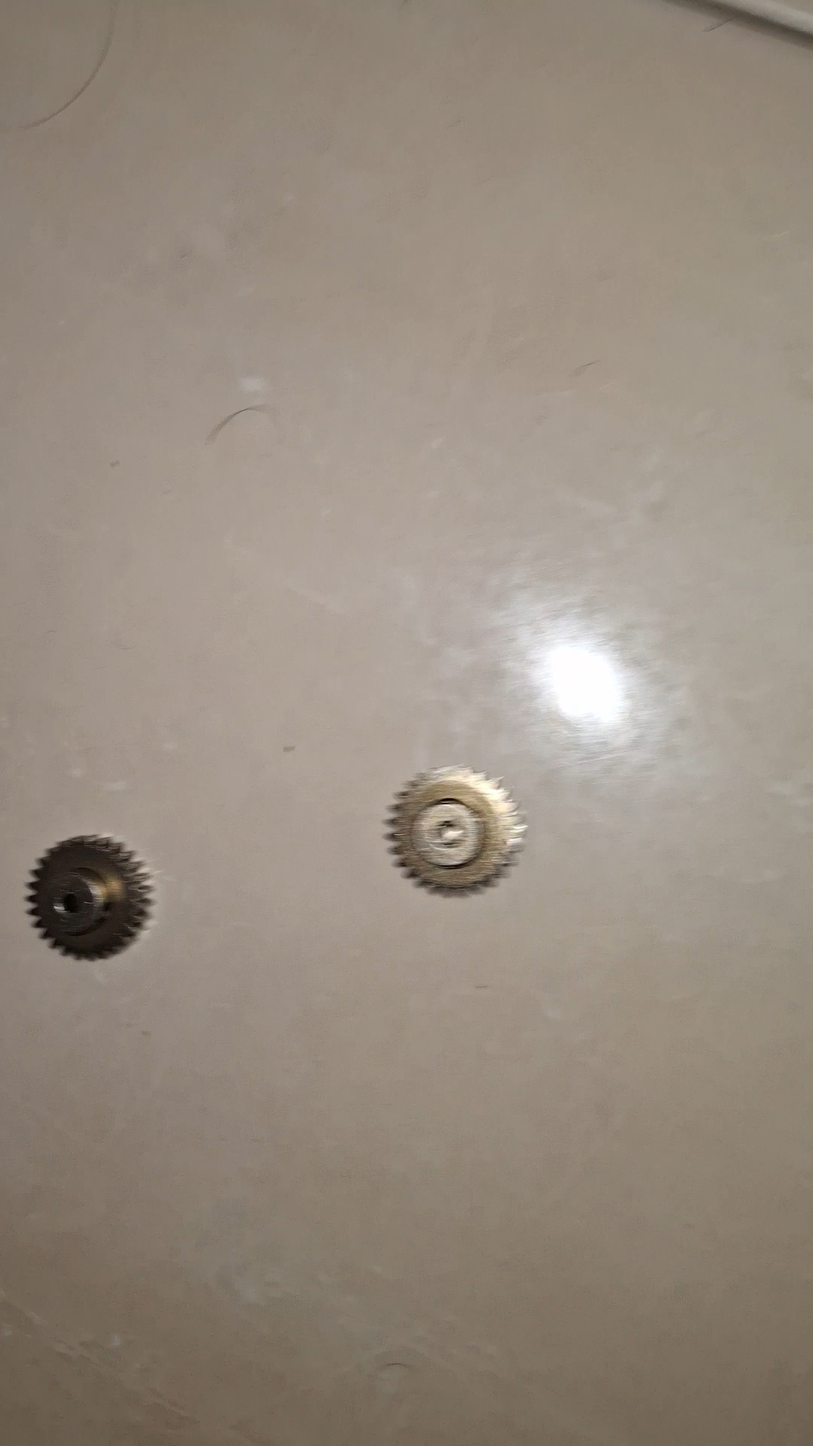spur gear: (388, 767, 524, 894), (28, 836, 151, 958)
